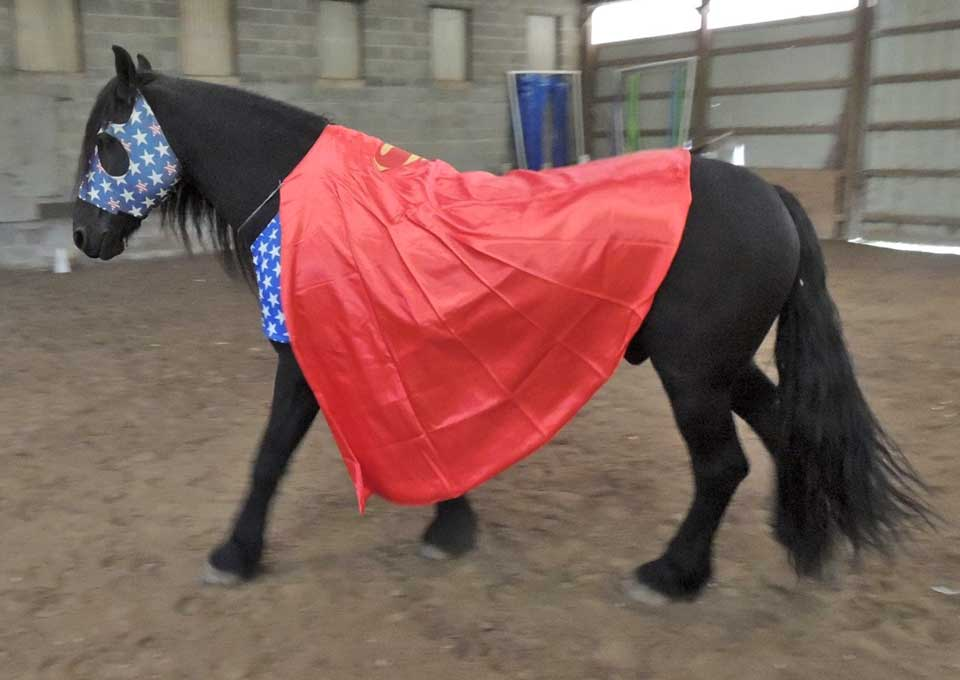Horse: (20, 29, 873, 644)
